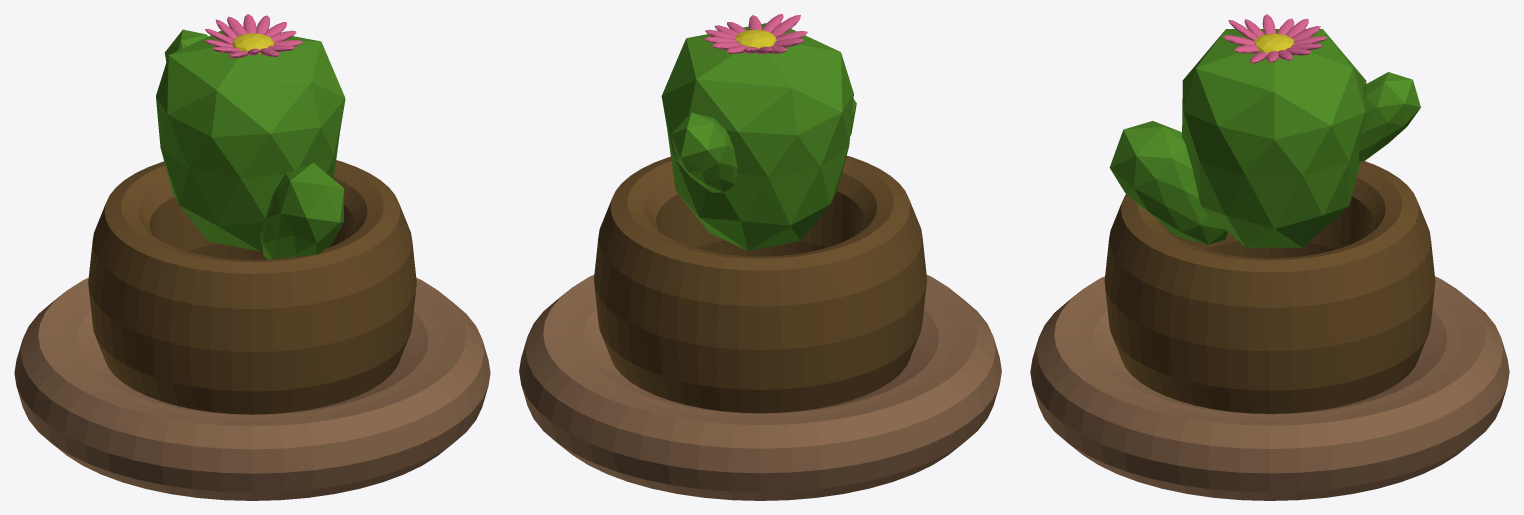
Rendered from Cactus.glb.
3 renders of one model, left to right at view 1: azimuth 30°, elevation 25°; view 2: azimuth 150°, elevation 25°; view 3: azimuth 270°, elevation 25°, orthographic.
Parts seen in each view (by area): view 1: Torus.001, Torus, Icosphere, Icosphere.001, Icosphere.003; view 2: Torus.001, Torus, Icosphere, Icosphere.002, Icosphere.003; view 3: Torus.001, Torus, Icosphere, Icosphere.001, Icosphere.002, Icosphere.003.
Boxes of the visible parts, x1,y1,x2,y2 form: Torus.001: (88,160,416,414); Torus: (14,278,490,500); Icosphere: (156,26,345,251); Icosphere.001: (260,162,344,259); Icosphere.003: (232,33,274,54); Torus.001: (594,155,926,413); Torus: (519,275,1001,500); Icosphere: (661,23,853,250); Icosphere.002: (671,112,737,192); Icosphere.003: (735,29,776,48); Torus.001: (1104,161,1435,413); Torus: (1030,276,1509,500); Icosphere: (1182,29,1366,247); Icosphere.001: (1109,121,1227,244); Icosphere.002: (1359,72,1420,162); Icosphere.003: (1254,33,1294,54).
Bounding box in the file's own units: 2.78 × 2.49 × 2.78.
